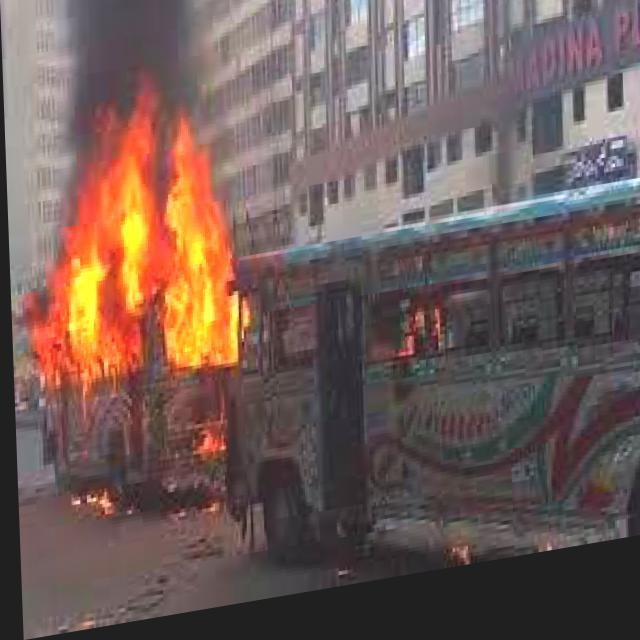Fire: (21, 78, 258, 431), (369, 292, 454, 399), (49, 448, 126, 554), (170, 407, 234, 489)
